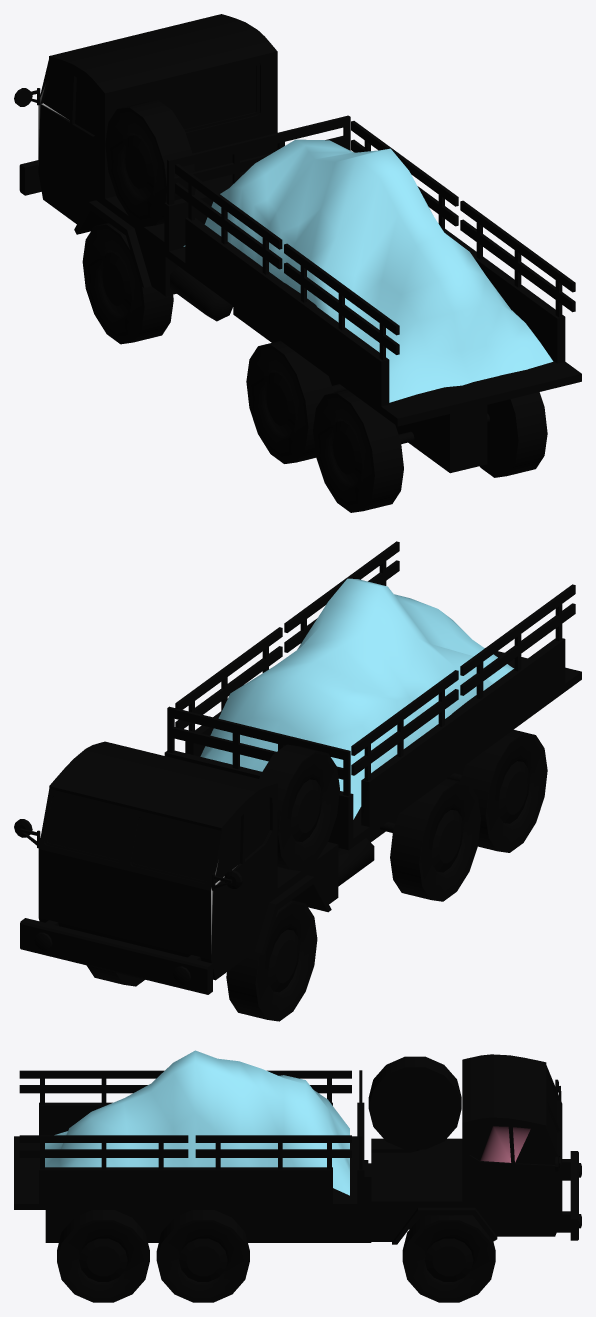
Rendered from Truck.FBX.
3 views of the same model, one above another, from view 1: azimuth 30°, elevation 25°; view 2: azimuth 150°, elevation 25°; view 3: azimuth 270°, elevation 25° (orthographic). The views are drawn at different scales.
Parts seen in each view (by area): view 1: Line001; view 2: Line001; view 3: Line001.
Boxes of the visible parts, <box> form: Line001: <box>14,14,581,512</box>; Line001: <box>14,541,581,1021</box>; Line001: <box>14,1050,581,1302</box>.
Size of the model in its own units: 154 by 187 by 446.
